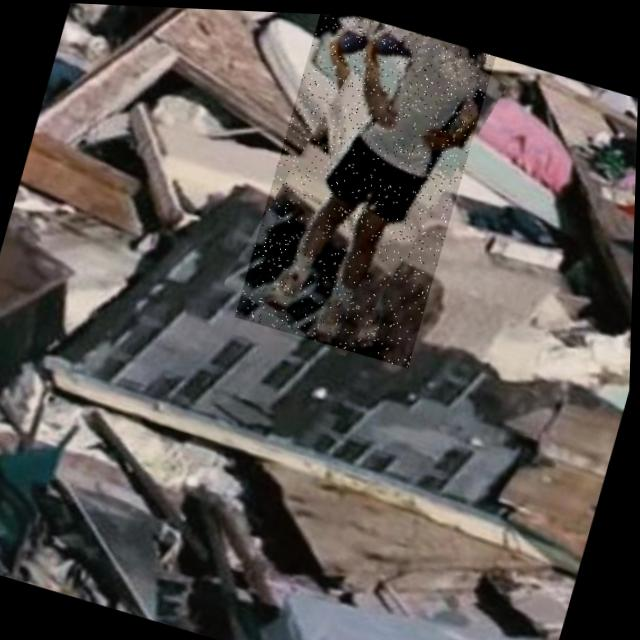Person in Rubble: (235, 8, 496, 366)
